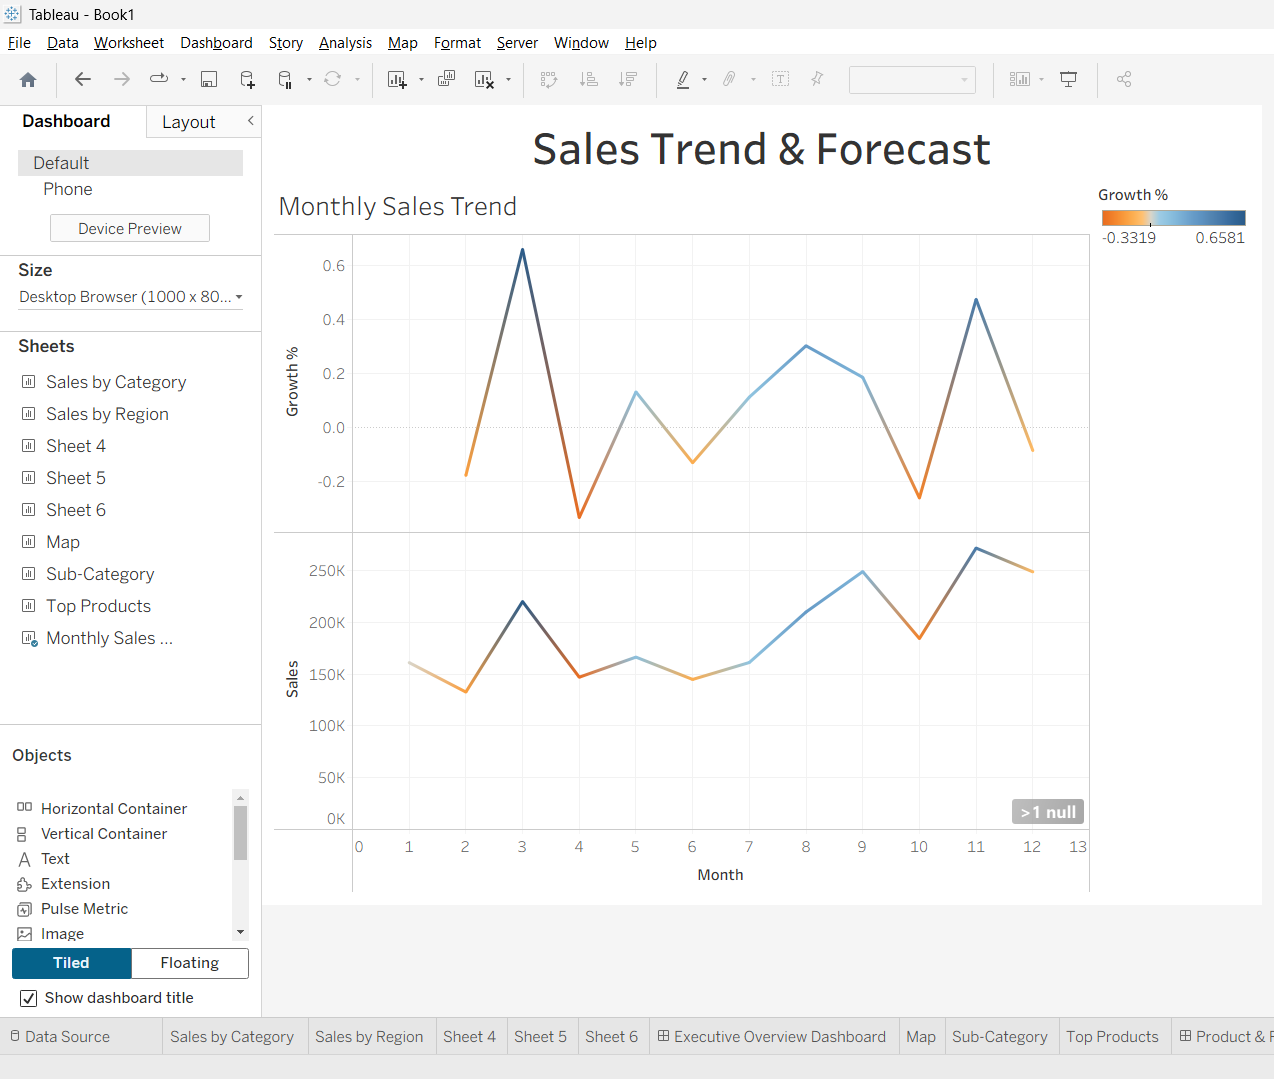

This screenshot's page, from the dashboard's own definition file:
{"tool":"tableau","page":{"name":"Sales Trend & Forecast","canvas":[1000,800],"ordinal":2},"visuals":[{"type":"title","box":[8,8,984,67]},{"type":"worksheet","title":"Monthly Sales Trend","mark":"Automatic","rows":["Calculation_1216384543727617","Sales"],"cols":["Month"],"box":[8,75,824,717]},{"type":"legend","title":"Monthly Sales Trend","param":"[federated.1c767c40ahcuwa1cjwv9s1x99baa].[usr:Calculation_1216384543727617:qk]","box":[832,75,160,73]}]}

Visuals, with their boxes on the page's 1000x800 design canvas (x1, y1, x2, y2). These are canvas units, not pixel positions in the 1274x1079 screenshot, which may show the page scaled, cropped or inside an application window:
title: pyautogui.locateOnScreen(8, 8, 992, 75)
"Monthly Sales Trend" worksheet: pyautogui.locateOnScreen(8, 75, 832, 792)
"Monthly Sales Trend" legend: pyautogui.locateOnScreen(832, 75, 992, 148)
